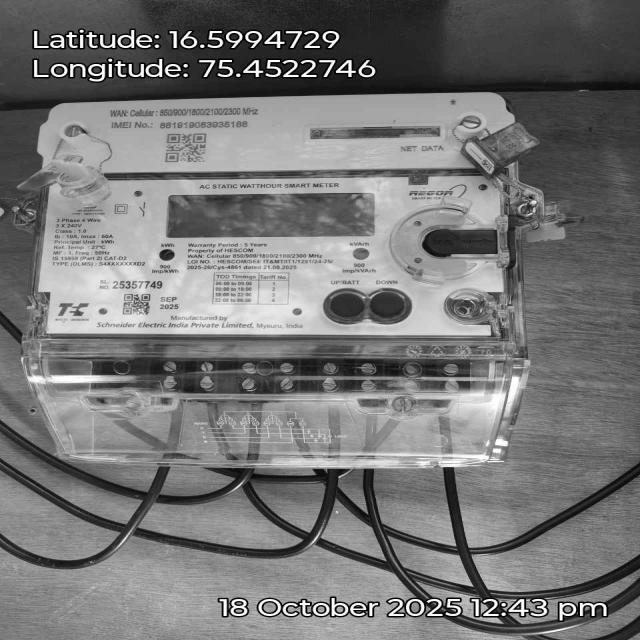meter: (44, 102, 520, 339)
